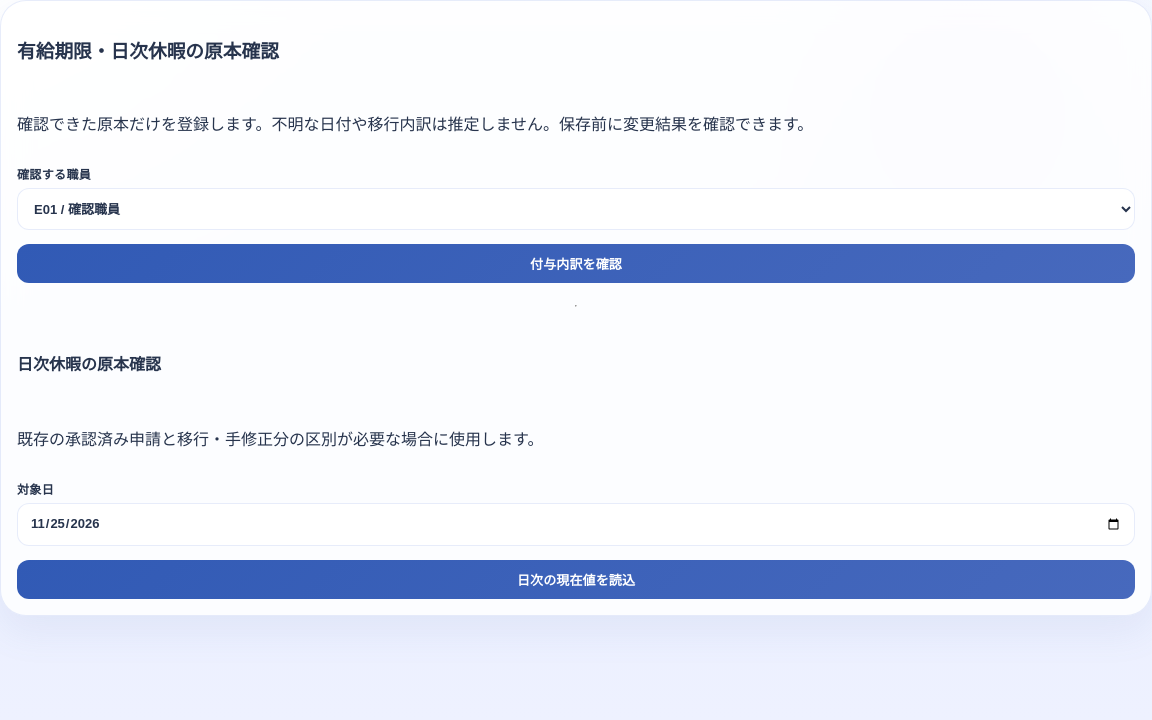
Test: leave source review › shows unknown expiry and does not save until source, preview and confirmation are supplied
Later steps or results of the test are not shown.
Click the button "付与内訳を確認" at [576, 264], box x1=17 y1=244 x2=1135 y2=283
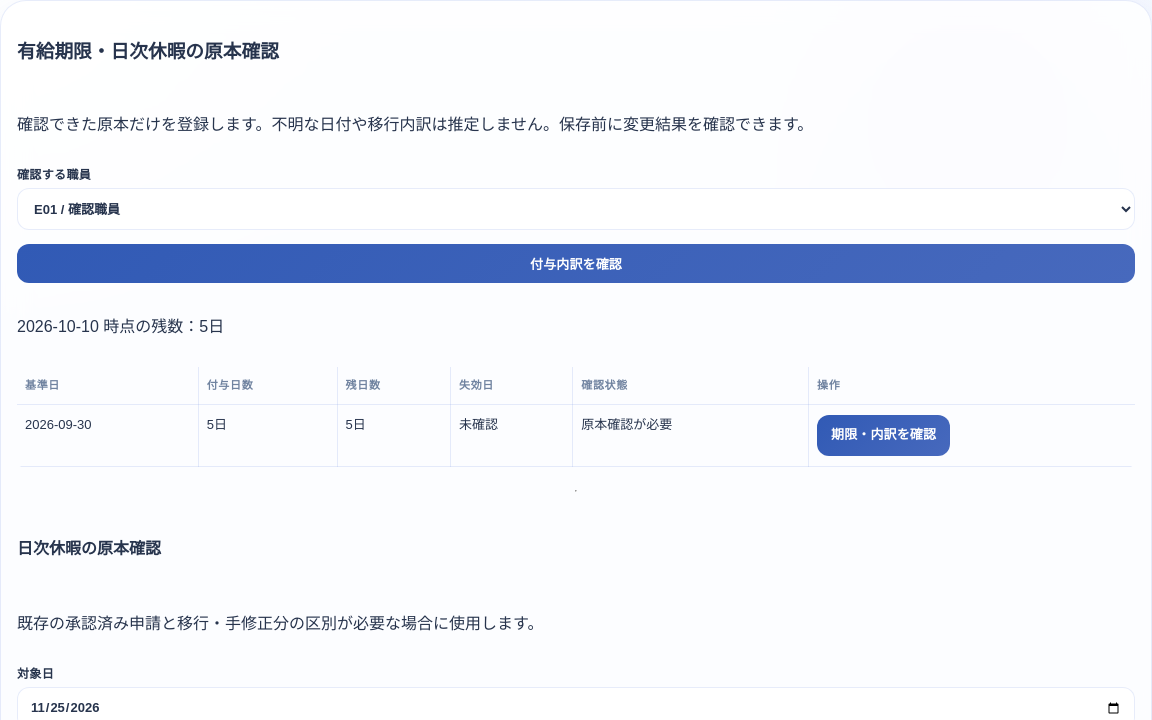
Result: the text "原本確認が必要" is shown at x1=573 y1=405 x2=809 y2=466
Click the button "期限・内訳を確認" at [884, 436], box x1=817 y1=416 x2=950 y2=456
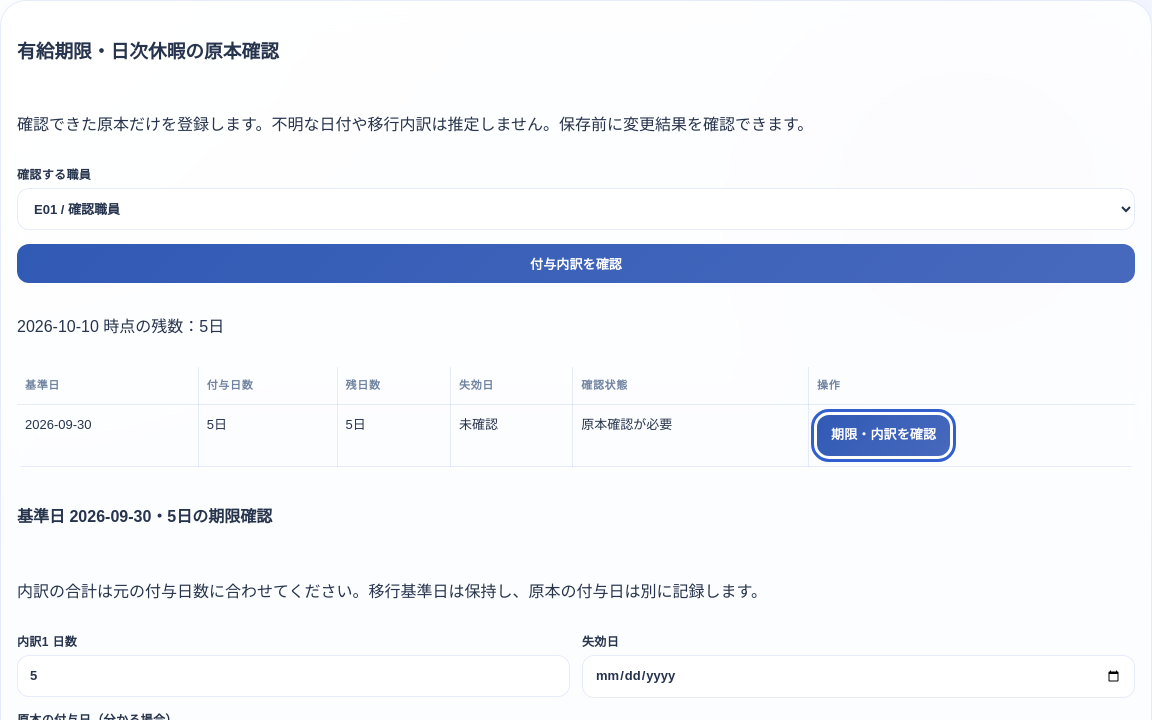
Result: the date field labelled "失効日" is empty
Type "2027-03-31" into the date field labelled "失効日" at [858, 677], box x1=582 y1=655 x2=1135 y2=698
(page scrolled)
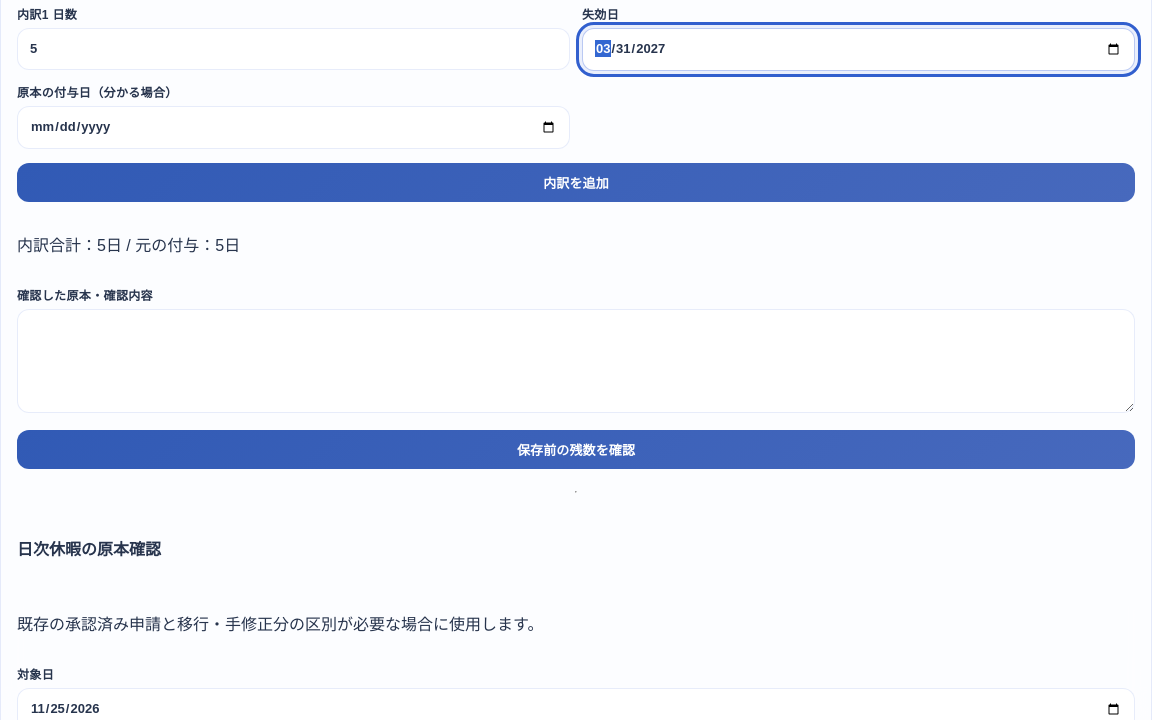
Type "付与管理原本" into the text box labelled "確認した原本・確認内容" at [576, 361], box x1=17 y1=309 x2=1135 y2=413
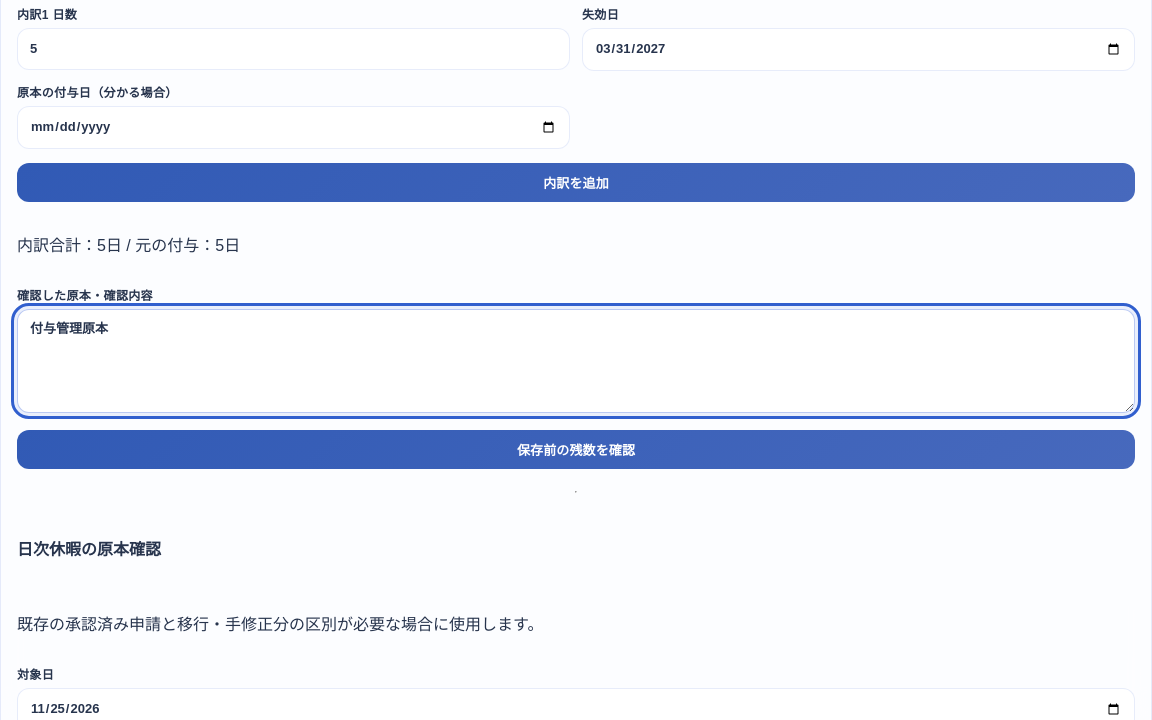
Click the button "保存前の残数を確認" at [576, 449], box x1=17 y1=430 x2=1135 y2=469
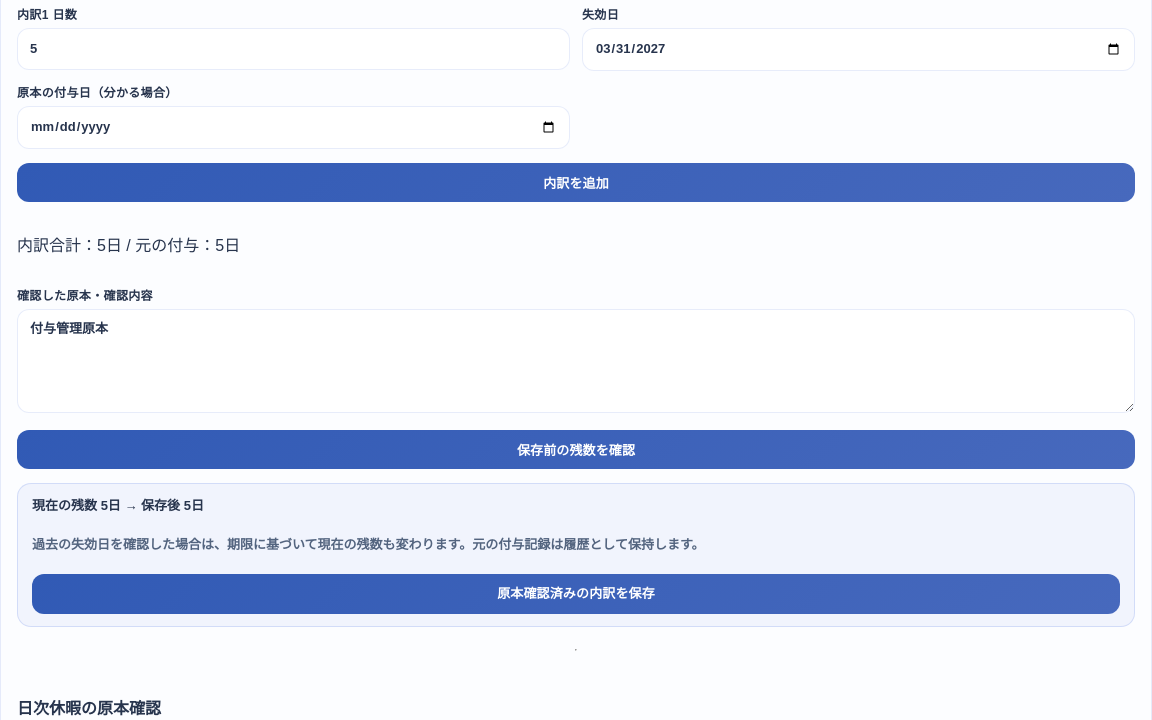
Result: the text "現在の残数 5日 → 保存後 5日" is shown at x1=32 y1=498 x2=204 y2=513
